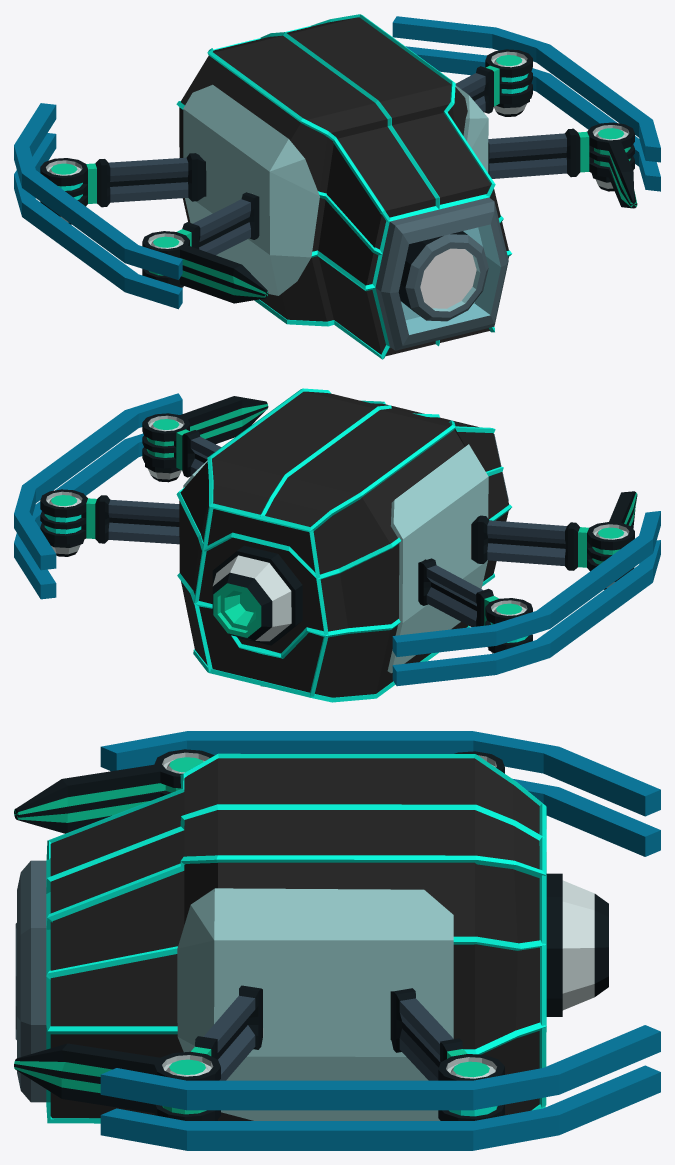
File: ScrapDrone_Mesh.fbx
3 renders of one model, top to bottom at view 1: azimuth 30°, elevation 25°; view 2: azimuth 150°, elevation 25°; view 3: azimuth 270°, elevation 25°, orthographic. The views are drawn at different scales.
Visible parts, largest first — view 1: ScrapDrone_LOD0; view 2: ScrapDrone_LOD0; view 3: ScrapDrone_LOD0.
Boxes of the visible parts, <box> form: ScrapDrone_LOD0: <box>14,14,660,359</box>; ScrapDrone_LOD0: <box>14,388,660,702</box>; ScrapDrone_LOD0: <box>14,731,660,1150</box>.
Size of what is drawn, in the model's own units: 760 by 279 by 579.
2 materials, 1 textured.
